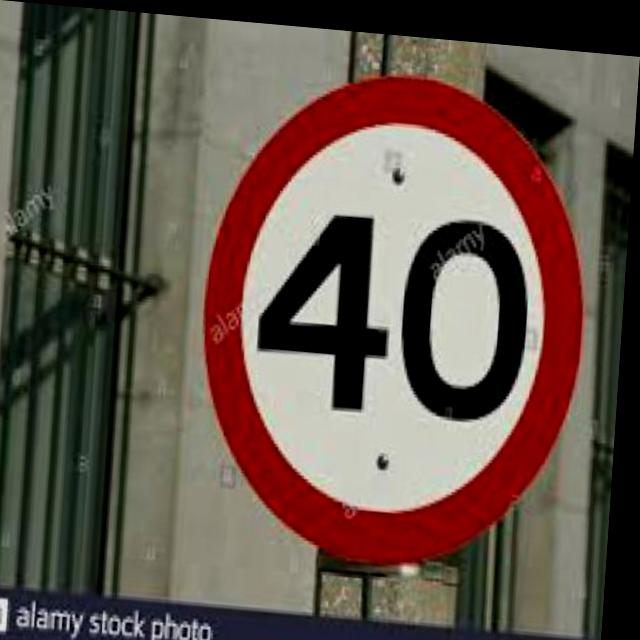limit40: (193, 46, 603, 573)
